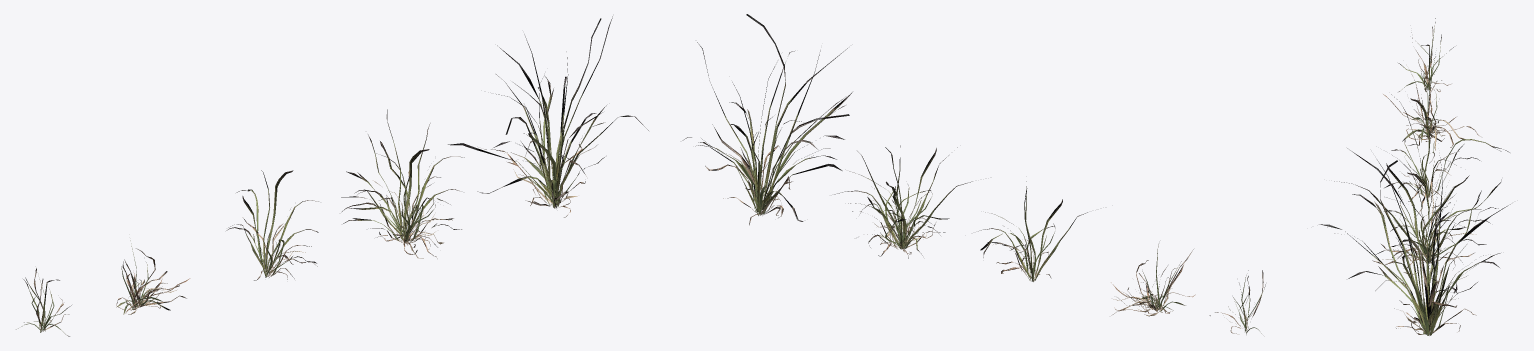
Rendered from grass_medium_02.glb.
3 renders of one model, left to right at view 1: azimuth 30°, elevation 25°; view 2: azimuth 150°, elevation 25°; view 3: azimuth 270°, elevation 25°, orthographic. The views are drawn at different scales.
Visible parts, largest first — view 1: grass_medium_02_e, grass_medium_02_d, grass_medium_02_c, grass_medium_02_b, grass_medium_02_a; view 2: grass_medium_02_e, grass_medium_02_d, grass_medium_02_c, grass_medium_02_b, grass_medium_02_a; view 3: grass_medium_02_e, grass_medium_02_d, grass_medium_02_c, grass_medium_02_b, grass_medium_02_a.
Part boxes in pixels (x1,y1,x2,y2): grass_medium_02_e: (448,16,648,217); grass_medium_02_d: (341,109,464,258); grass_medium_02_c: (226,170,318,280); grass_medium_02_b: (116,240,190,314); grass_medium_02_a: (16,268,71,336); grass_medium_02_e: (682,14,852,225); grass_medium_02_d: (834,145,972,258); grass_medium_02_c: (978,181,1087,281); grass_medium_02_b: (1111,244,1195,316); grass_medium_02_a: (1209,270,1265,334); grass_medium_02_e: (1319,148,1510,335); grass_medium_02_d: (1334,144,1502,274); grass_medium_02_c: (1384,94,1509,214); grass_medium_02_b: (1383,54,1480,150); grass_medium_02_a: (1398,18,1453,91).
Bounding box in the file's own units: 1.31 × 0.4053 × 0.4318.
1 material, 1 textured.
